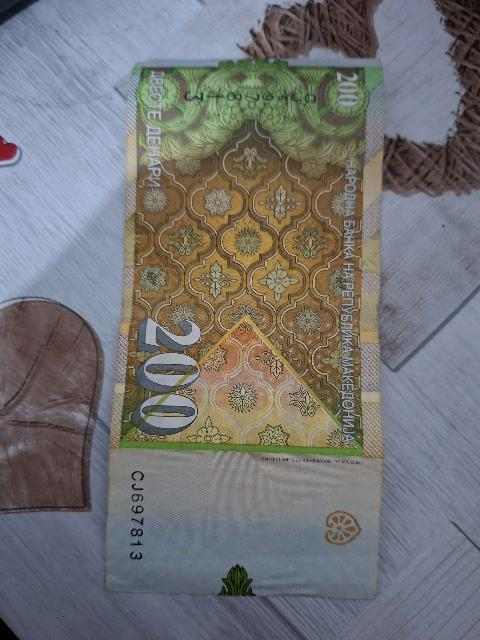200_note: (104, 55, 390, 605)
